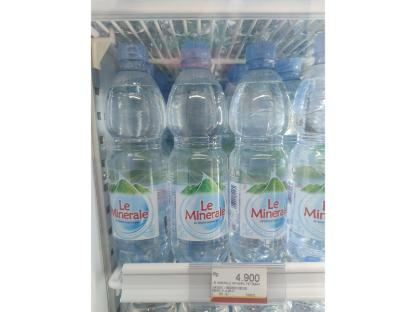Plastic Bottle: (106, 41, 168, 265), (168, 39, 230, 263), (231, 40, 293, 262)
